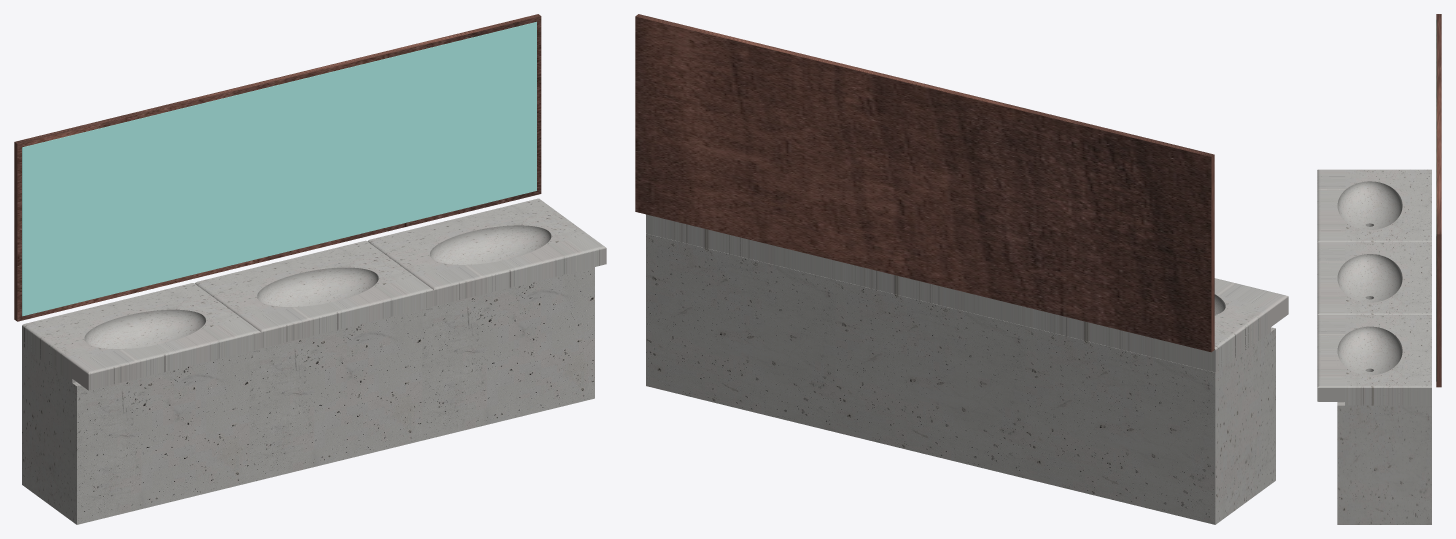
The model's file is Mirror.glb.
The picture shows the model from 3 angles, left to right: view 1: azimuth 30°, elevation 25°; view 2: azimuth 150°, elevation 25°; view 3: azimuth 270°, elevation 25°; orthographic projection. The views are drawn at different scales.
Parts seen in each view (by area): view 1: Cube.004, washStand, washStand.001; view 2: washStand.001, Cube.004; view 3: Cube.004, washStand.001, washStand.
Part boxes in pixels (bbox=[...]): Cube.004: bbox=[22, 198, 606, 524]; washStand: bbox=[22, 22, 536, 316]; washStand.001: bbox=[14, 14, 541, 321]; washStand.001: bbox=[635, 14, 1214, 352]; Cube.004: bbox=[646, 214, 1288, 524]; Cube.004: bbox=[1317, 169, 1431, 524]; washStand.001: bbox=[1436, 14, 1441, 387]; washStand: bbox=[1436, 20, 1436, 381].
Bounding box in the file's own units: 17.46 × 10.8 × 4.17.
3 materials, 2 textured.
